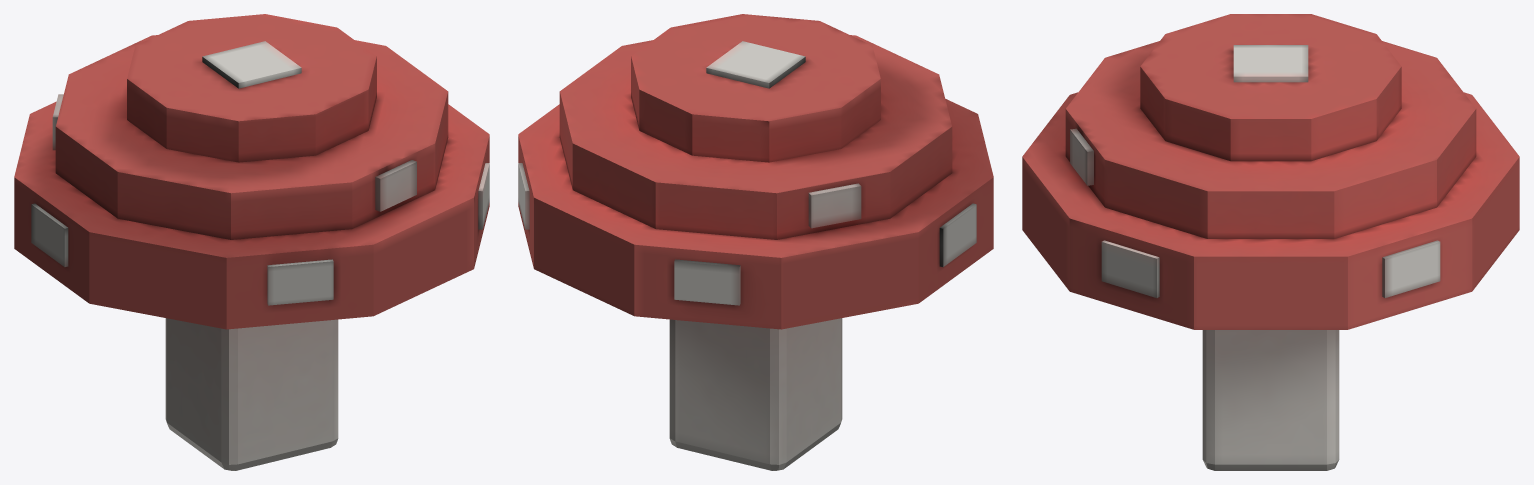
Rendered from mushroomcap.glb.
The picture shows the model from 3 angles, left to right: view 1: azimuth 30°, elevation 25°; view 2: azimuth 150°, elevation 25°; view 3: azimuth 270°, elevation 25°; orthographic projection. The views are drawn at different scales.
Visible parts, largest first — view 1: mushroomcap; view 2: mushroomcap; view 3: mushroomcap.
Boxes of the visible parts, bbox=[...] form: mushroomcap: bbox=[14, 14, 489, 470]; mushroomcap: bbox=[518, 14, 993, 470]; mushroomcap: bbox=[1022, 14, 1519, 470].
Size of the model in its own units: 0.7679 by 0.685 by 0.8.
Materials: 3 (3 with a texture image).
